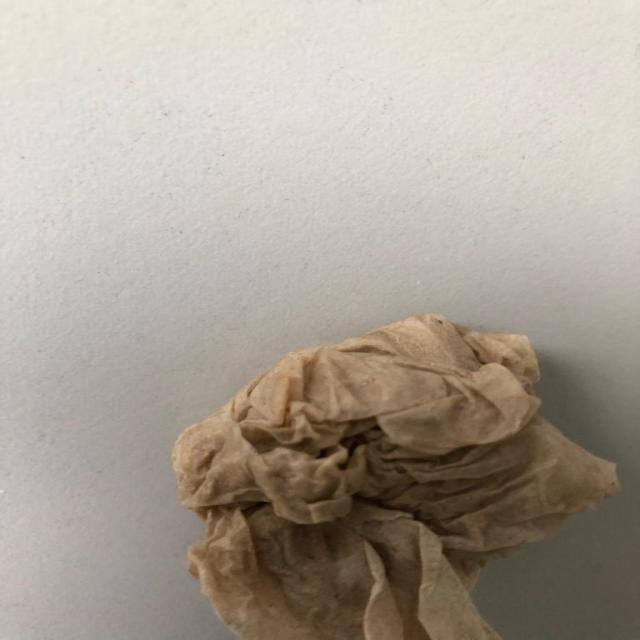kitchen paper: (172, 312, 623, 636)
